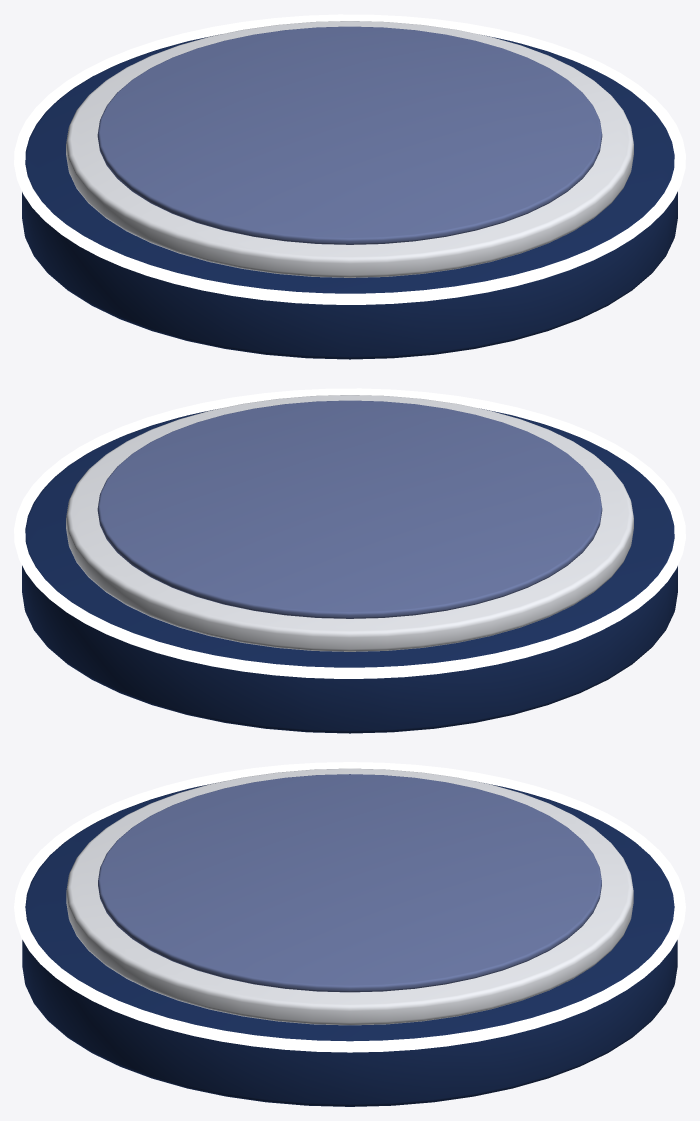
File: podium-champions-medium.glb
3 views of the same model, one above another, from view 1: azimuth 30°, elevation 25°; view 2: azimuth 150°, elevation 25°; view 3: azimuth 270°, elevation 25° (orthographic).
Visible parts, largest first — view 1: deck, base, top, Torus; view 2: deck, base, top, Torus; view 3: deck, base, top, Torus.
Part boxes in pixels (x1,y1,x2,y2): deck: (97, 26, 602, 244); base: (22, 34, 677, 359); top: (66, 21, 633, 277); Torus: (14, 14, 685, 304); deck: (97, 400, 602, 618); base: (22, 408, 677, 733); top: (66, 395, 633, 651); Torus: (14, 388, 685, 678); deck: (98, 774, 601, 992); base: (22, 783, 677, 1106); top: (66, 768, 633, 1025); Torus: (14, 762, 685, 1052).
Bounding box in the file's own units: 5.33 × 0.7899 × 5.33.
